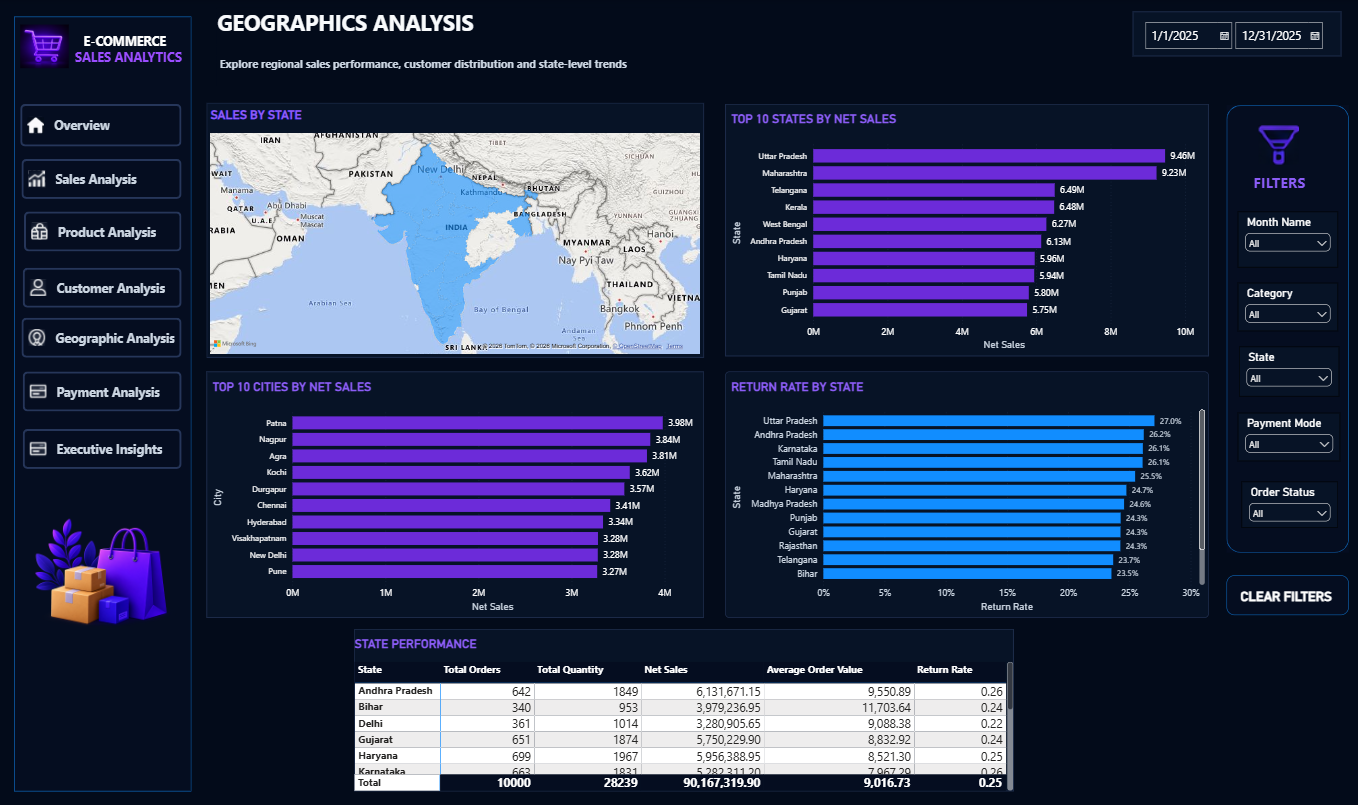

The page's visual inventory and layout, read from the dashboard file:
{"tool":"powerbi","page":{"name":"Geographic Analysis","canvas":[2020,1200],"ordinal":4},"visuals":[{"type":"textbox","box":[322.8,66.8,755.1,61.2],"z":0},{"type":"shape","box":[22.3,26,263.5,1150.3],"z":1000},{"type":"actionButton","box":[31.5,155.8,239.3,63.1],"z":2000},{"type":"actionButton","box":[33.4,237.5,237.5,59.4],"z":3000},{"type":"actionButton","box":[35.3,398.9,235.6,59.4],"z":4000},{"type":"actionButton","box":[33.4,473.1,237.5,59.4],"z":5000},{"type":"actionButton","box":[35.3,552.9,235.6,59.4],"z":6000},{"type":"textbox","box":[322.8,13,736.6,53.8],"z":7000},{"type":"textbox","box":[79,36.5,203.6,91.2],"z":8000},{"type":"shape","box":[1821.9,157.7,181.8,664.2],"z":9000},{"type":"slicer","fields":{"Values":["orders.State"]},"box":[1840.9,516.3,148.4,74.2],"z":10000},{"type":"slicer","fields":{"Values":["orders.Category"]},"box":[1838.8,420.5,148.4,72.4],"z":11000},{"type":"slicer","fields":{"Values":["orders.Payment_Mode"]},"box":[1838.8,614.4,152.1,72.4],"z":12000},{"type":"slicer","fields":{"Values":["orders.Order_Status"]},"box":[1844.2,716.1,142.9,68.6],"z":13000},{"type":"slicer","fields":{"Values":["orders.Month_Name"]},"box":[1838.8,315.9,148.4,83.5],"z":14000},{"type":"textbox","box":[1857.2,252.3,120.3,45.3],"z":15000},{"type":"slicer","fields":{"Values":["orders.Order_Date"]},"box":[1683,18.1,309.7,66.4],"z":16000},{"type":"clusteredBarChart","title":"TOP 10  STATES BY NET SALES","fields":{"Category":["orders.State"],"Y":["orders.Net Sales"]},"box":[1077.9,155.8,718,374.8],"z":17000},{"type":"actionButton","box":[37.1,315.4,233.8,59.4],"z":18000},{"type":"image","box":[24.1,731,261.4,249.3],"z":19000},{"type":"image","box":[1841.8,187,114.6,58.3],"z":20000},{"type":"image","box":[31.5,37.1,72.4,66.8],"z":21000},{"type":"clusteredBarChart","title":"RETURN RATE BY STATE","fields":{"Category":["orders.State"],"Y":["orders.Return Rate"]},"box":[1077.9,552.9,718,365.5],"z":22000},{"type":"pivotTable","title":"STATE  PERFORMANCE","fields":{"Values":["orders.Total Orders","orders.Total Quantity","orders.Net Sales","orders.Average Order Value","orders.Return Rate"],"Rows":["orders.State"],"Columns":["orders.State"]},"box":[526.9,935.1,979.6,241.2],"z":23000},{"type":"filledMap","title":"SALES BY STATE","fields":{"Category":["orders.State"]},"box":[308,154,738.4,378.5],"z":24000},{"type":"clusteredBarChart","title":"TOP 10  CITIES BY NET SALES","fields":{"Category":["orders.City"],"Y":["orders.Net Sales"]},"box":[308,552.9,738.4,365.5],"z":25000},{"type":"shape","title":"CLEAR FILTERS","box":[1821.9,855.3,181.8,59.4],"z":26000},{"type":"actionButton","box":[35.3,638.2,235.6,59.4],"z":27000}]}

Visuals, with their boxes on the page's 2020x1200 design canvas (x1, y1, x2, y2). These are canvas units, not pixel positions in the 1358x805 screenshot, which may show the page scaled, cropped or inside an application window:
textbox: 323:67:1078:128
shape: 22:26:286:1176
actionButton: 32:156:271:219
actionButton: 33:238:271:297
actionButton: 35:399:271:458
actionButton: 33:473:271:532
actionButton: 35:553:271:612
textbox: 323:13:1059:67
textbox: 79:36:283:128
shape: 1822:158:2004:822
slicer - orders.State: 1841:516:1989:590
slicer - orders.Category: 1839:420:1987:493
slicer - orders.Payment_Mode: 1839:614:1991:687
slicer - orders.Order_Status: 1844:716:1987:785
slicer - orders.Month_Name: 1839:316:1987:399
textbox: 1857:252:1978:298
slicer - orders.Order_Date: 1683:18:1993:84
"TOP 10  STATES BY NET SALES" clusteredBarChart: 1078:156:1796:531
actionButton: 37:315:271:375
image: 24:731:286:980
image: 1842:187:1956:245
image: 32:37:104:104
"RETURN RATE BY STATE" clusteredBarChart: 1078:553:1796:918
"STATE  PERFORMANCE" pivotTable: 527:935:1506:1176
"SALES BY STATE" filledMap: 308:154:1046:532
"TOP 10  CITIES BY NET SALES" clusteredBarChart: 308:553:1046:918
"CLEAR FILTERS" shape: 1822:855:2004:915
actionButton: 35:638:271:698
